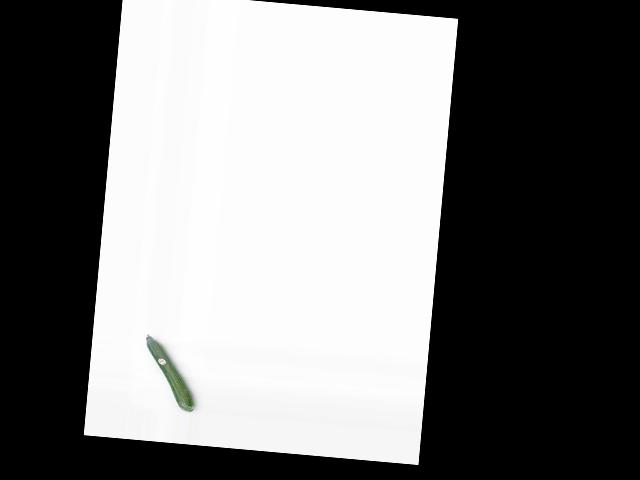cucumber: (140, 333, 200, 411)
